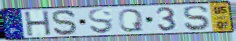3: (156, 5, 180, 32)
H: (23, 10, 53, 37)
Q: (117, 8, 145, 33)
S: (182, 4, 210, 32), (51, 9, 80, 36), (86, 8, 115, 35)
